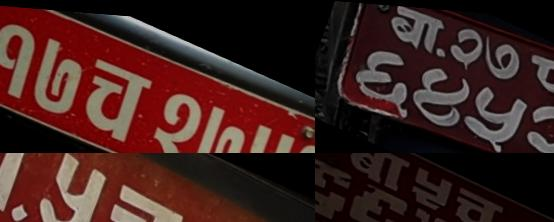0: (383, 3, 446, 56)
1: (0, 10, 47, 102), (443, 19, 487, 72), (517, 92, 554, 153)
2: (139, 74, 213, 153)
4: (347, 38, 424, 118), (274, 126, 315, 153)
5: (16, 153, 120, 222), (403, 56, 476, 135), (403, 157, 457, 214), (228, 109, 296, 153)
6: (457, 74, 530, 153), (340, 174, 414, 222), (315, 153, 357, 222)
7: (21, 28, 96, 122), (183, 92, 255, 153), (474, 27, 529, 85), (396, 201, 484, 222)
8: (518, 43, 554, 101)
ba: (0, 153, 48, 222), (341, 153, 413, 192)
cha: (68, 46, 159, 150), (83, 163, 193, 222), (444, 177, 511, 222)
